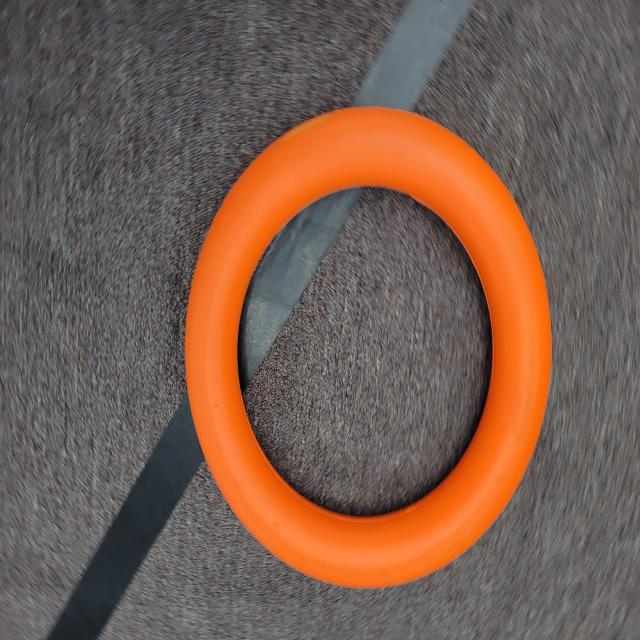note: (169, 98, 569, 602)
